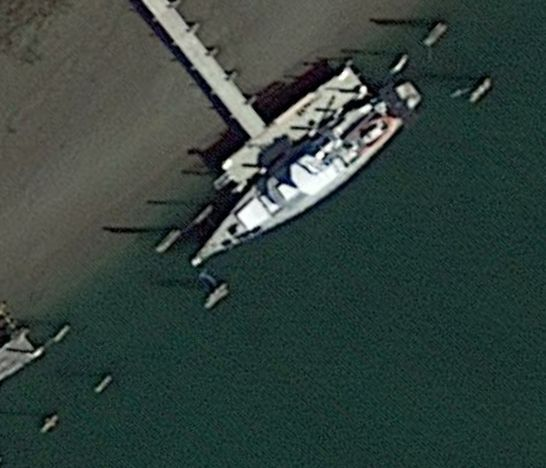boat: (190, 82, 422, 270)
